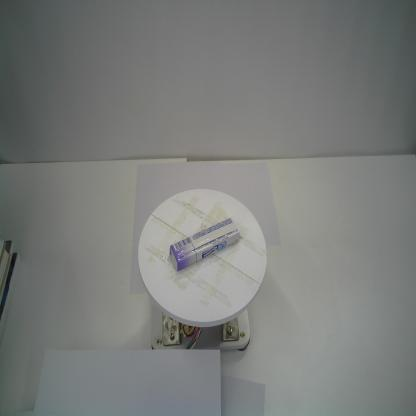Candy: (169, 217, 240, 272)
